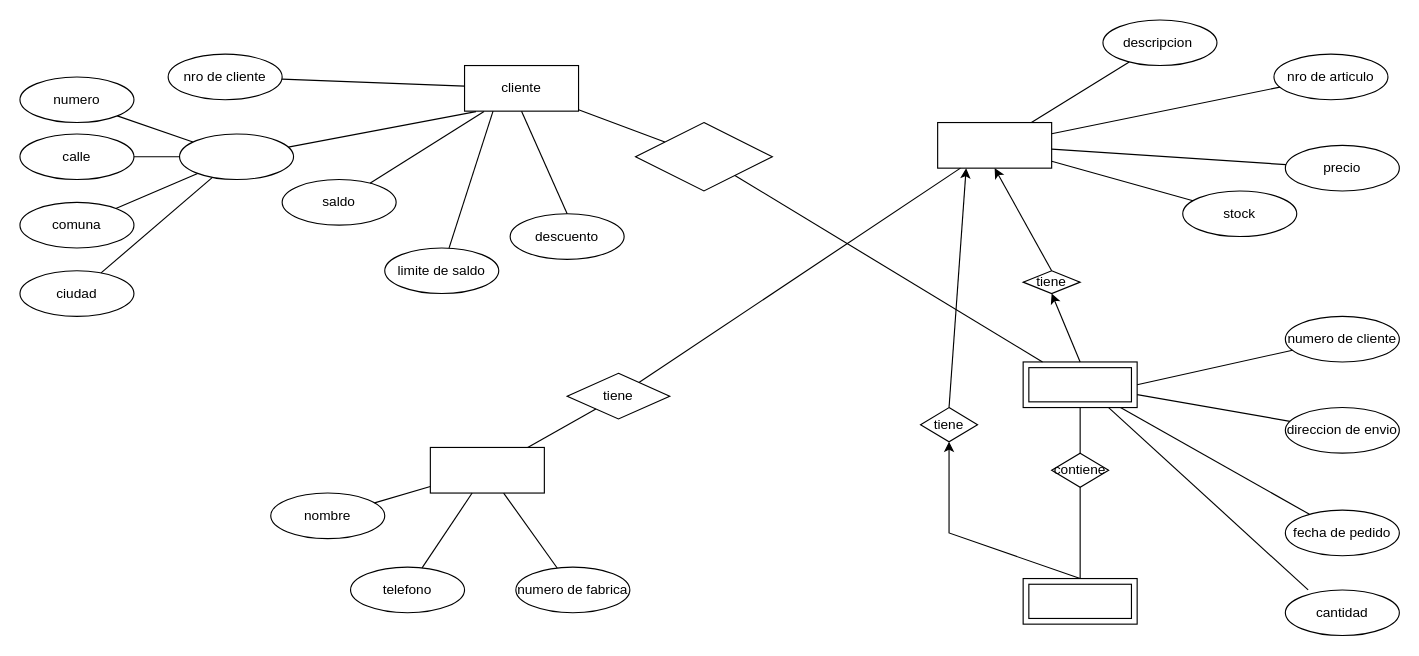
Some shapes in this 1419 by 656 pixel diagram are drawn without their labels. The centre of each missing label's shape, as x and y in pixels:
articulo: pixel 994 144
detalle de pedido: pixel 1079 600
direcciones de envio: pixel 236 156
encabezado de pedido: pixel 1079 384
fabrica: pixel 486 469
Relationship: pixel 703 156
